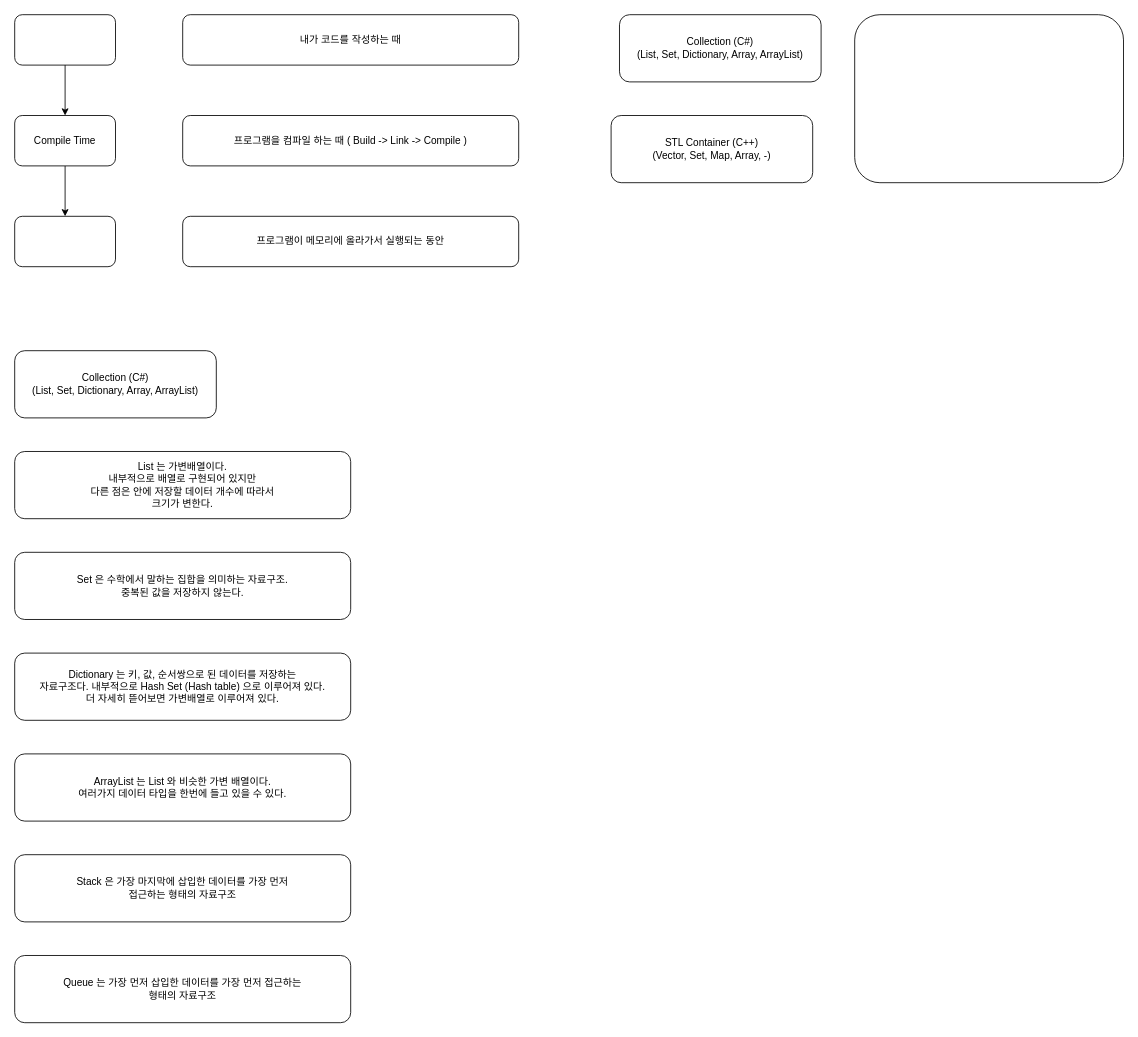
This 1138x1037 diagram has some shape labels left out. Here are the shapes that lost their labels. From the top down, the centre of each, then its label:
point (65, 39): Editor Time
point (989, 98): 변수를 이것 저것 편하게 쓰기 위해서 만들어 놓은 자료구조 자료구조 -> Data structure 데이터를 저장하는 모양새 (Shape)
point (65, 241): Run Time
